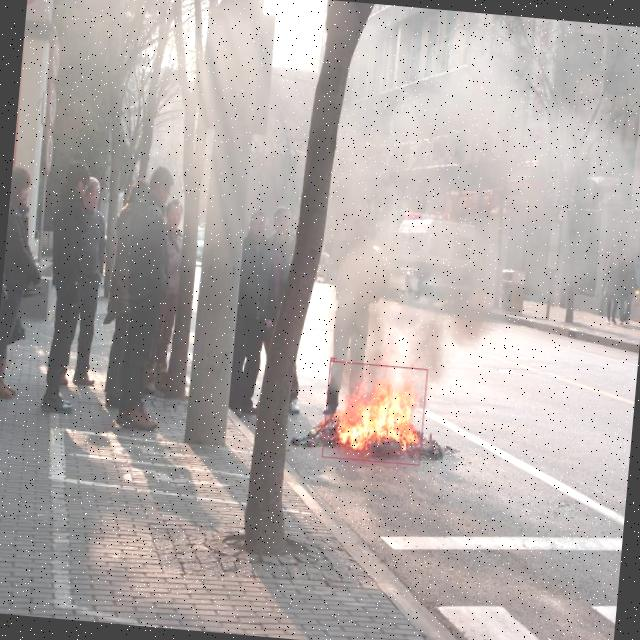fire: (321, 360, 427, 465)
